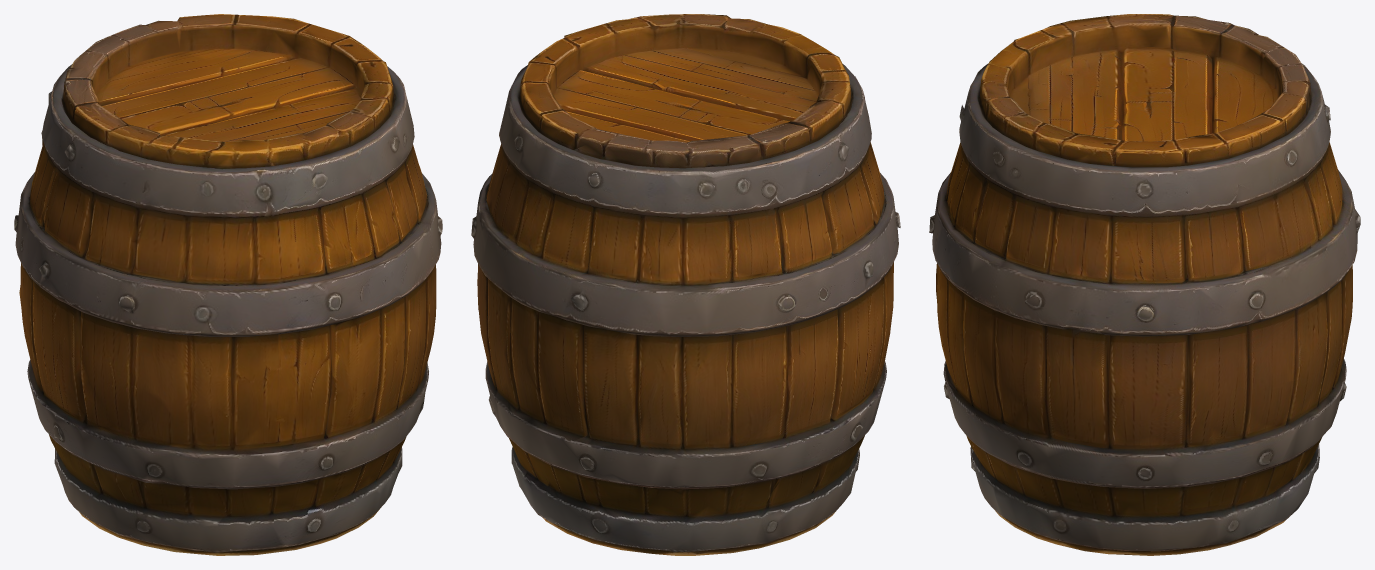
The model's file is barrel.glb.
3 renders of one model, left to right at view 1: azimuth 30°, elevation 25°; view 2: azimuth 150°, elevation 25°; view 3: azimuth 270°, elevation 25°, orthographic.
Visible parts, largest first — view 1: tripo_node_1dc72379-549d-45f8-97d1-13a64aa8ed38; view 2: tripo_node_1dc72379-549d-45f8-97d1-13a64aa8ed38; view 3: tripo_node_1dc72379-549d-45f8-97d1-13a64aa8ed38.
Part boxes in pixels (x1=…): tripo_node_1dc72379-549d-45f8-97d1-13a64aa8ed38: x1=14, y1=14, x2=442, y2=555; tripo_node_1dc72379-549d-45f8-97d1-13a64aa8ed38: x1=471, y1=14, x2=900, y2=555; tripo_node_1dc72379-549d-45f8-97d1-13a64aa8ed38: x1=929, y1=14, x2=1360, y2=555.
Size of the model in its own units: 0.9582 by 0.9998 by 0.9614.
Materials: 1 (1 with a texture image).
